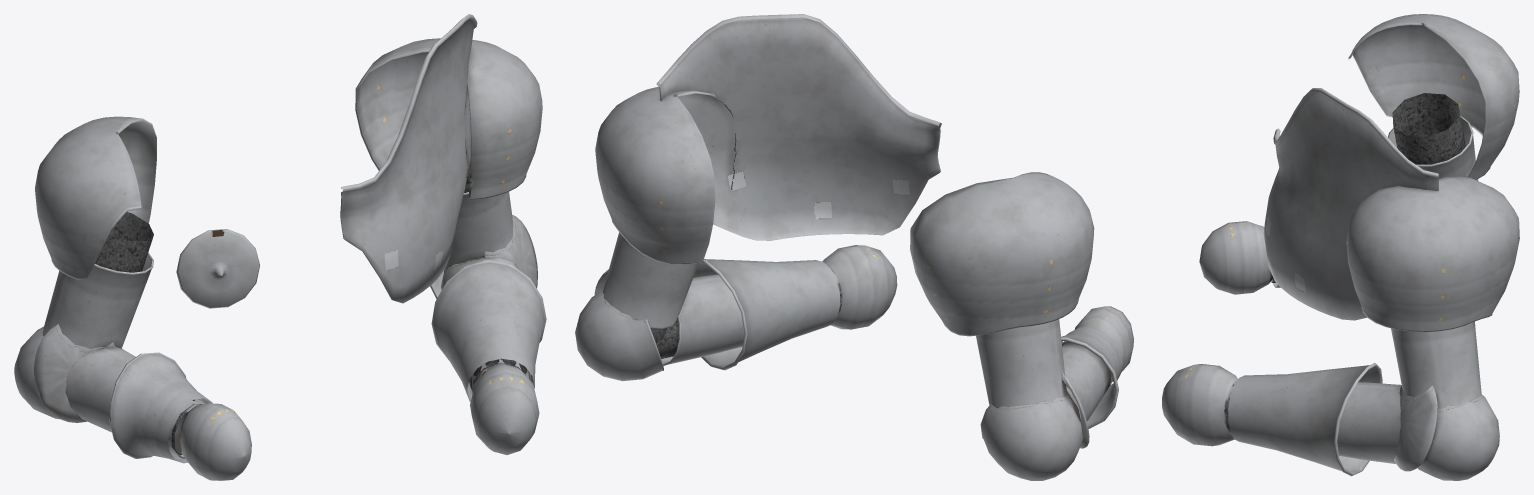
The model's file is arms.glb.
The picture shows the model from 3 angles, left to right: view 1: azimuth 30°, elevation 25°; view 2: azimuth 150°, elevation 25°; view 3: azimuth 270°, elevation 25°; orthographic projection. The views are drawn at different scales.
Visible parts, largest first — view 1: torso_pauldron_l, torso_arm_r, torso_arm_l, torso_pauldron_r; view 2: torso_pauldron_l, torso_arm_l, torso_pauldron_r, torso_arm_r; view 3: torso_pauldron_l, torso_arm_l, torso_pauldron_r, torso_arm_r.
Boxes of the visible parts, bbox=[...] form: torso_pauldron_l: bbox=[340, 14, 542, 303]; torso_arm_r: bbox=[14, 212, 251, 480]; torso_arm_l: bbox=[430, 159, 546, 454]; torso_pauldron_r: bbox=[35, 116, 259, 308]; torso_pauldron_l: bbox=[595, 14, 941, 264]; torso_arm_l: bbox=[575, 229, 897, 381]; torso_pauldron_r: bbox=[910, 172, 1094, 336]; torso_arm_r: bbox=[976, 306, 1133, 480]; torso_pauldron_l: bbox=[1263, 88, 1519, 332]; torso_arm_l: bbox=[1162, 321, 1499, 480]; torso_pauldron_r: bbox=[1348, 14, 1519, 179]; torso_arm_r: bbox=[1199, 93, 1478, 294].
Size of the model in its own units: 0.8037 by 0.5568 by 0.5126.
Materials: 1 (1 with a texture image).
